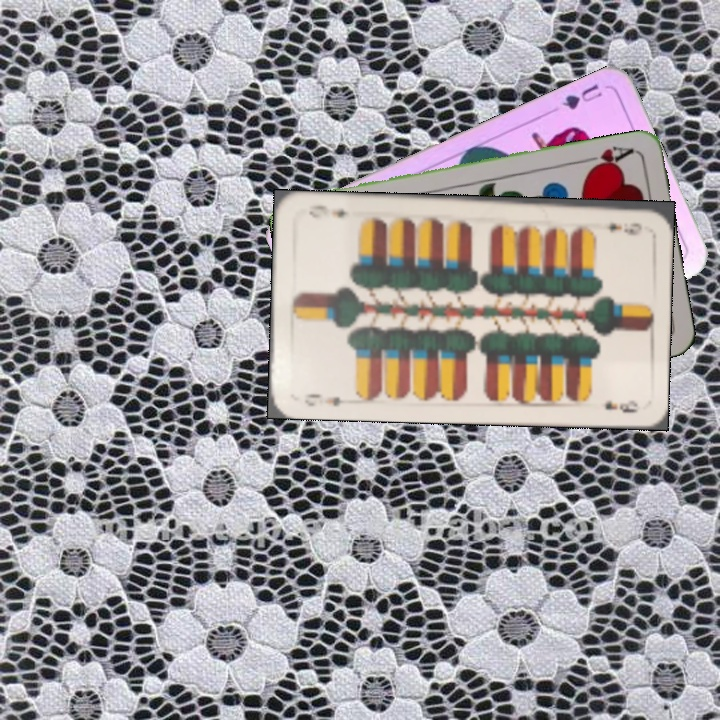E9: (301, 390, 352, 409), (602, 218, 644, 235)
GU: (558, 80, 605, 112)
HA: (578, 141, 637, 173)
